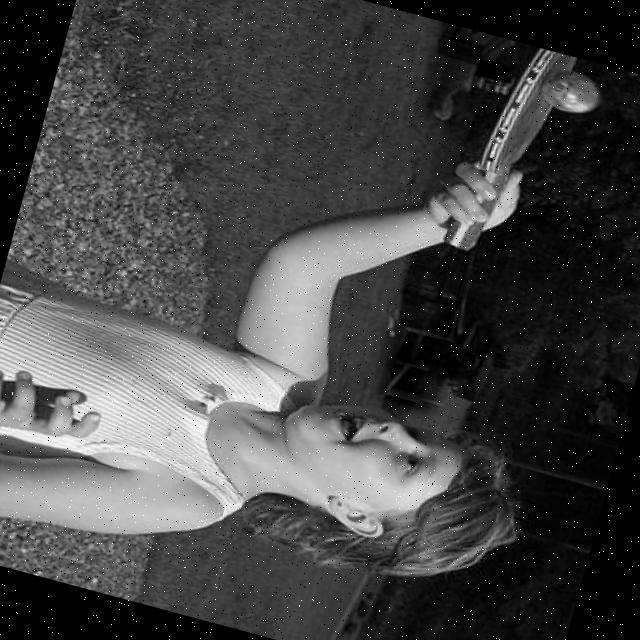ping-pong-ball: (532, 61, 608, 121)
